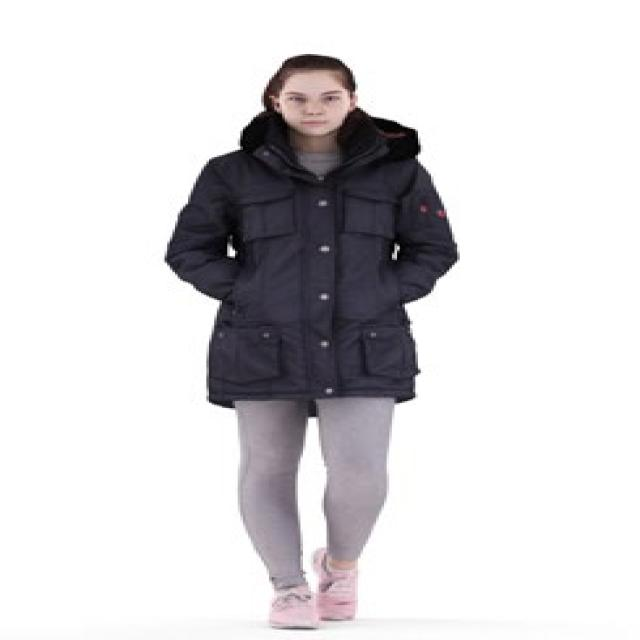standing: (162, 47, 460, 640)
